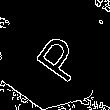P_NW: (21, 25, 85, 84)
